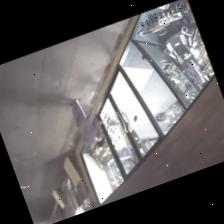person: (71, 98, 104, 146)
